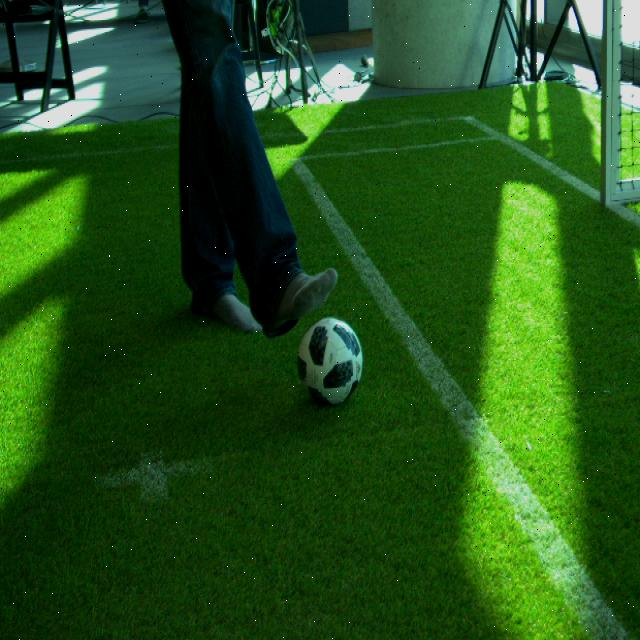ball: (296, 316, 364, 405)
goalpost: (600, 1, 621, 203)
